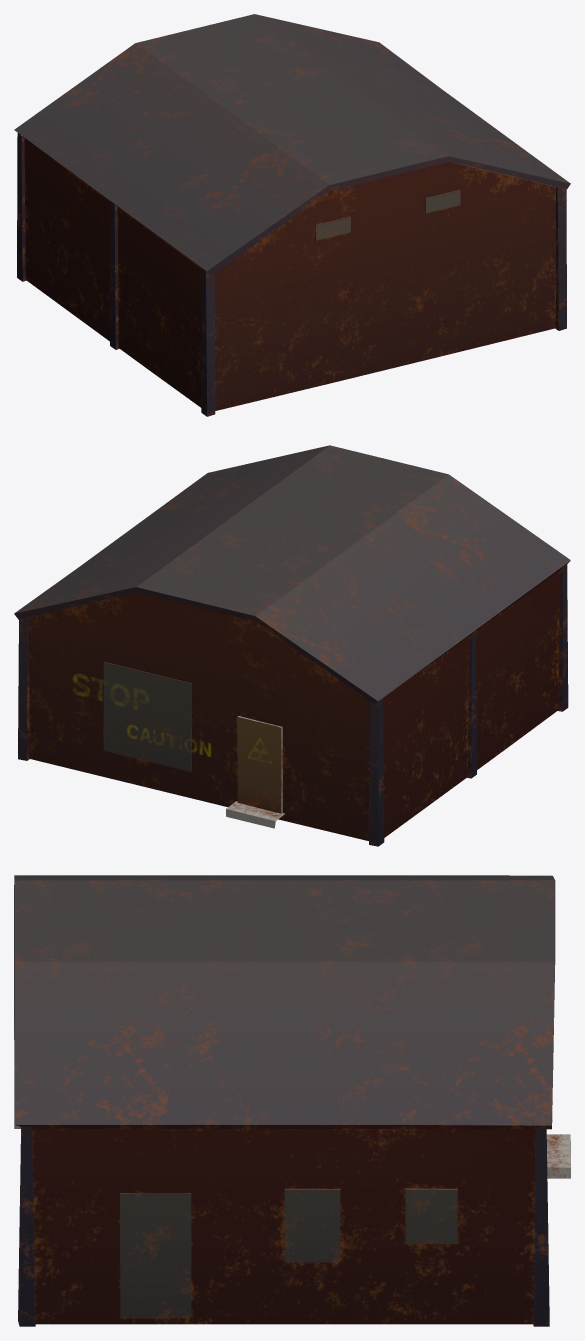
File: Build2.glb
The picture shows the model from 3 angles, top to bottom: view 1: azimuth 30°, elevation 25°; view 2: azimuth 150°, elevation 25°; view 3: azimuth 270°, elevation 25°; orthographic projection. The views are drawn at different scales.
Visible parts, largest first — view 1: Build2; view 2: Build2; view 3: Build2.
Boxes of the visible parts, <box> form: Build2: <box>14,14,570,416</box>; Build2: <box>14,445,570,846</box>; Build2: <box>14,875,570,1326</box>.
Size of the model in its own units: 14.64 by 7.79 by 13.88.
Materials: 1 (1 with a texture image).
